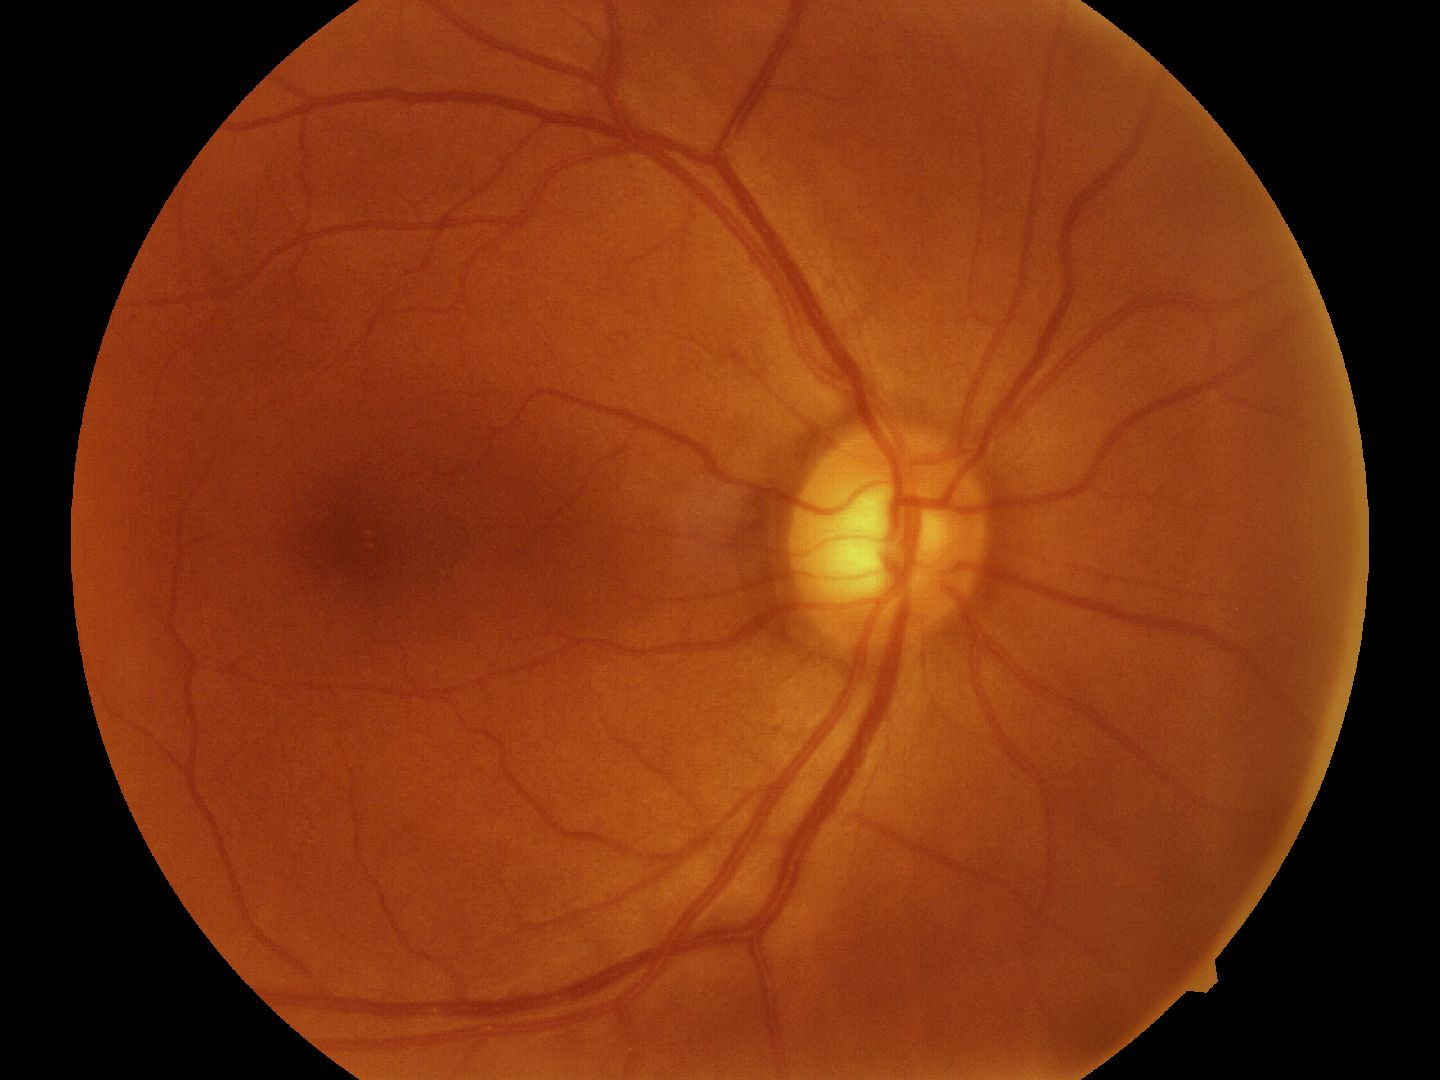Hemorrhages: (287, 424, 615, 665)
Optic-Disc: (776, 408, 998, 661)
Venules: (600, 729, 819, 1021), (594, 85, 796, 272)
